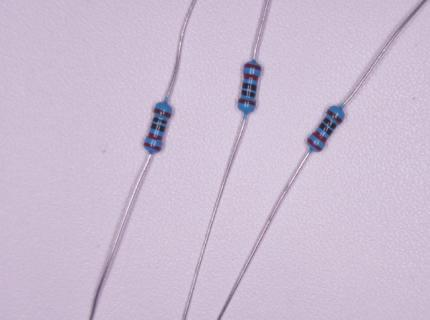Black band: (318, 122, 333, 135), (323, 117, 337, 129), (151, 123, 166, 132), (242, 82, 257, 91), (241, 90, 256, 97), (153, 117, 167, 124)
Brown band: (327, 108, 343, 123), (154, 107, 171, 118), (238, 99, 256, 106)
Red band: (307, 138, 323, 151), (312, 130, 327, 143), (144, 142, 161, 151), (147, 132, 163, 141), (244, 64, 261, 70), (244, 74, 258, 81)
